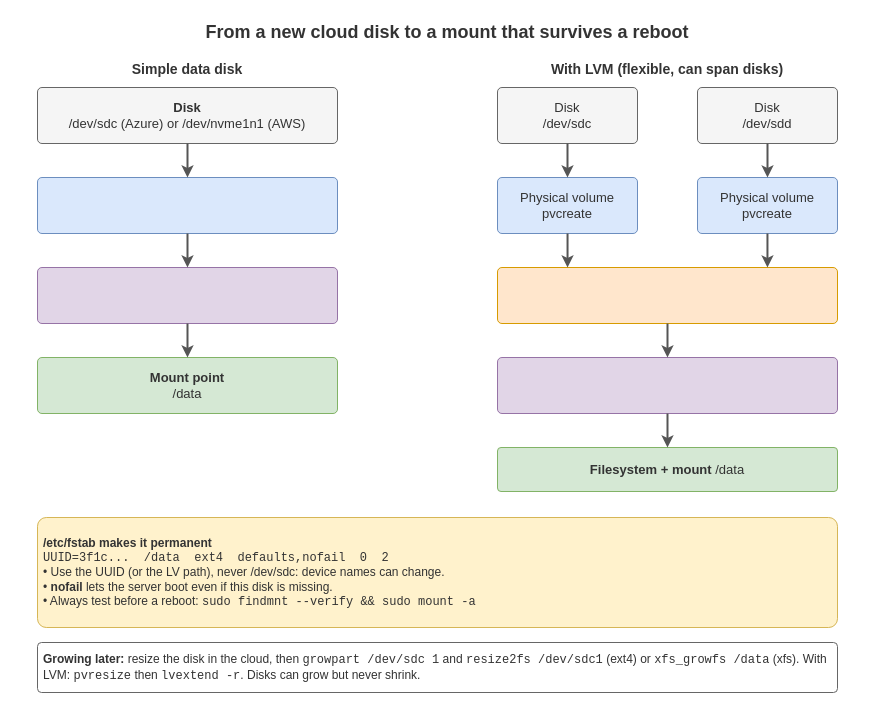
Some shapes in this 894 by 710 pixel diagram are drawn without their labels. Here are the shapes that lost their labels. From the top down, the centre of each, then its label:
At point (187, 205): "Partition (parted) /dev/sdc1".
At point (187, 295): "Filesystem (mkfs.ext4 / mkfs.xfs) has a UUID, see blkid".
At point (667, 295): "Volume group datavg (vgcreate) one pool of space".
At point (667, 385): "Logical volume /dev/datavg/datalv lvcreate, grow with lvextend -r".
